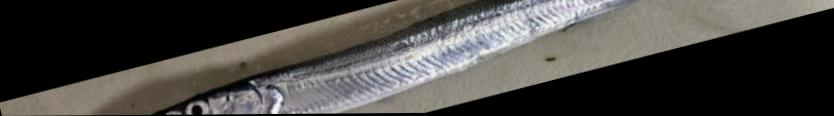fish: (149, 0, 650, 115)
